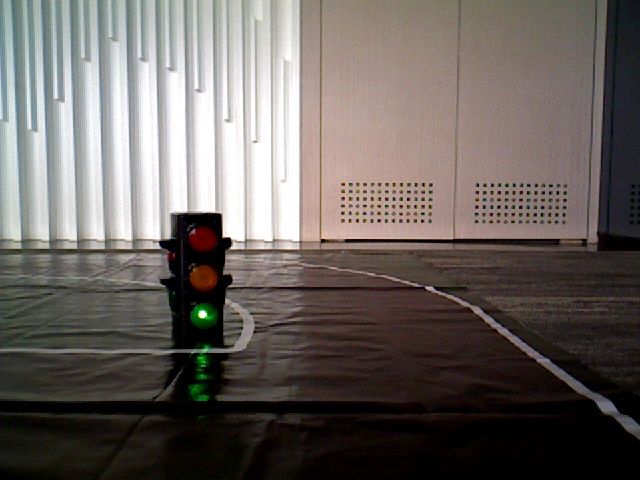green: (178, 217, 223, 333)
